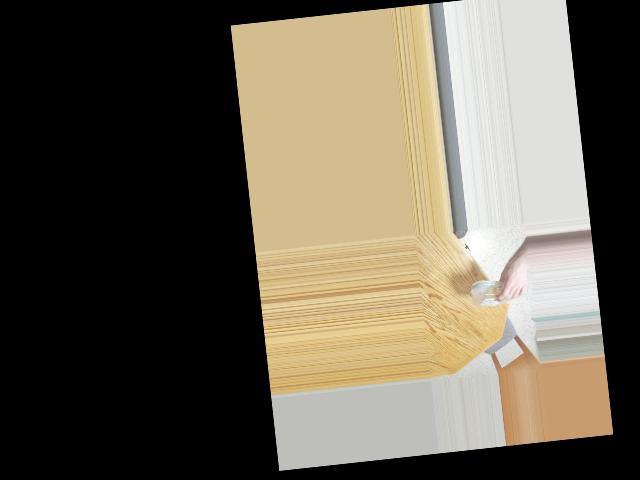cheese: (467, 261, 511, 317)
